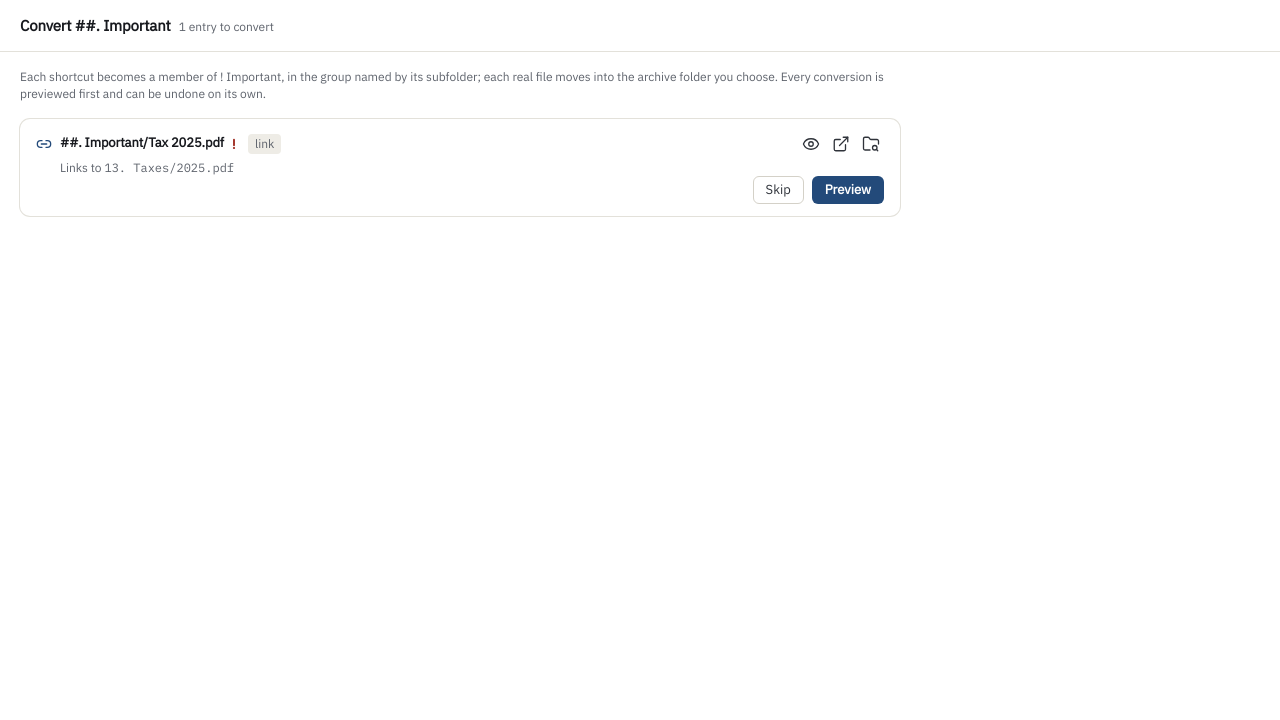
ConvertImportant › a stale preview offers to preview again
The image size is (1280, 720).
Click the button "Preview" at (848, 190), box [812, 176, 884, 204]
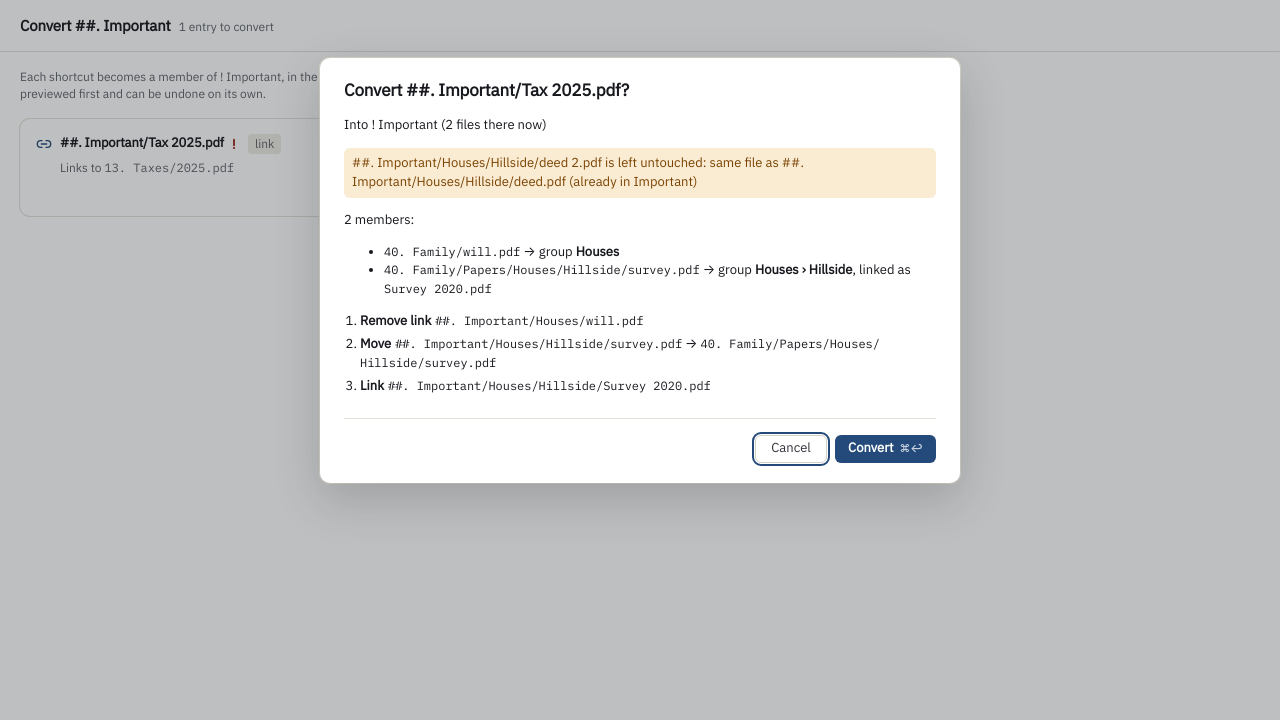
Click the button "Convert⌘↩" at (886, 448), box [835, 434, 936, 462]
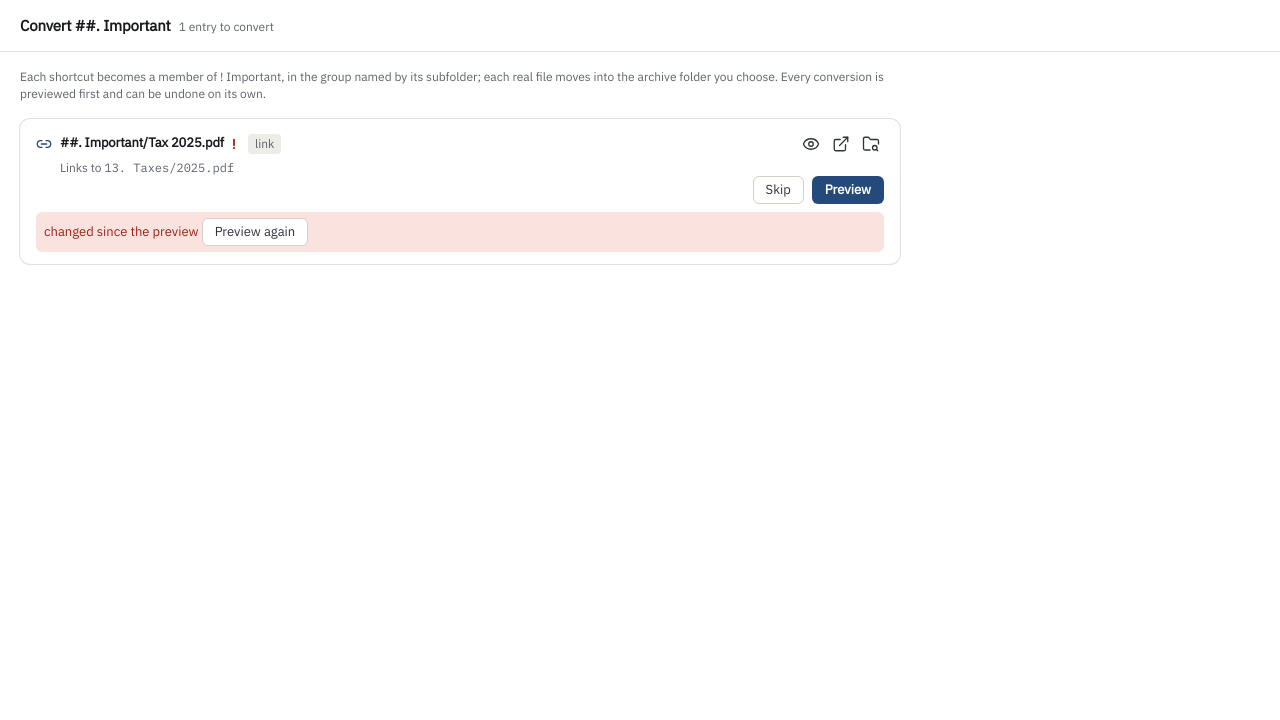
Now the button "Preview again" is shown, box [202, 218, 308, 246]
